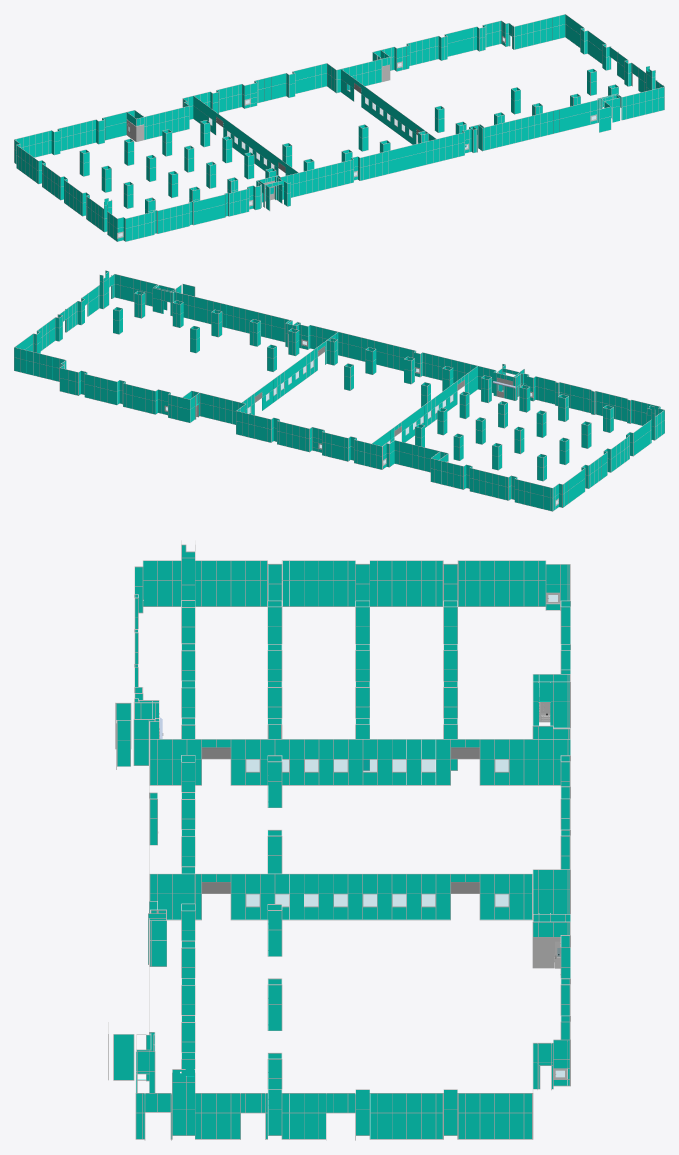
File: detail-cleanroomwalls-3-2f.glb
3 views of the same model, one above another, from view 1: azimuth 30°, elevation 25°; view 2: azimuth 150°, elevation 25°; view 3: azimuth 270°, elevation 25° (orthographic). The views are drawn at different scales.
Bounding box in the file's own units: 103 × 6.03 × 37.91.
